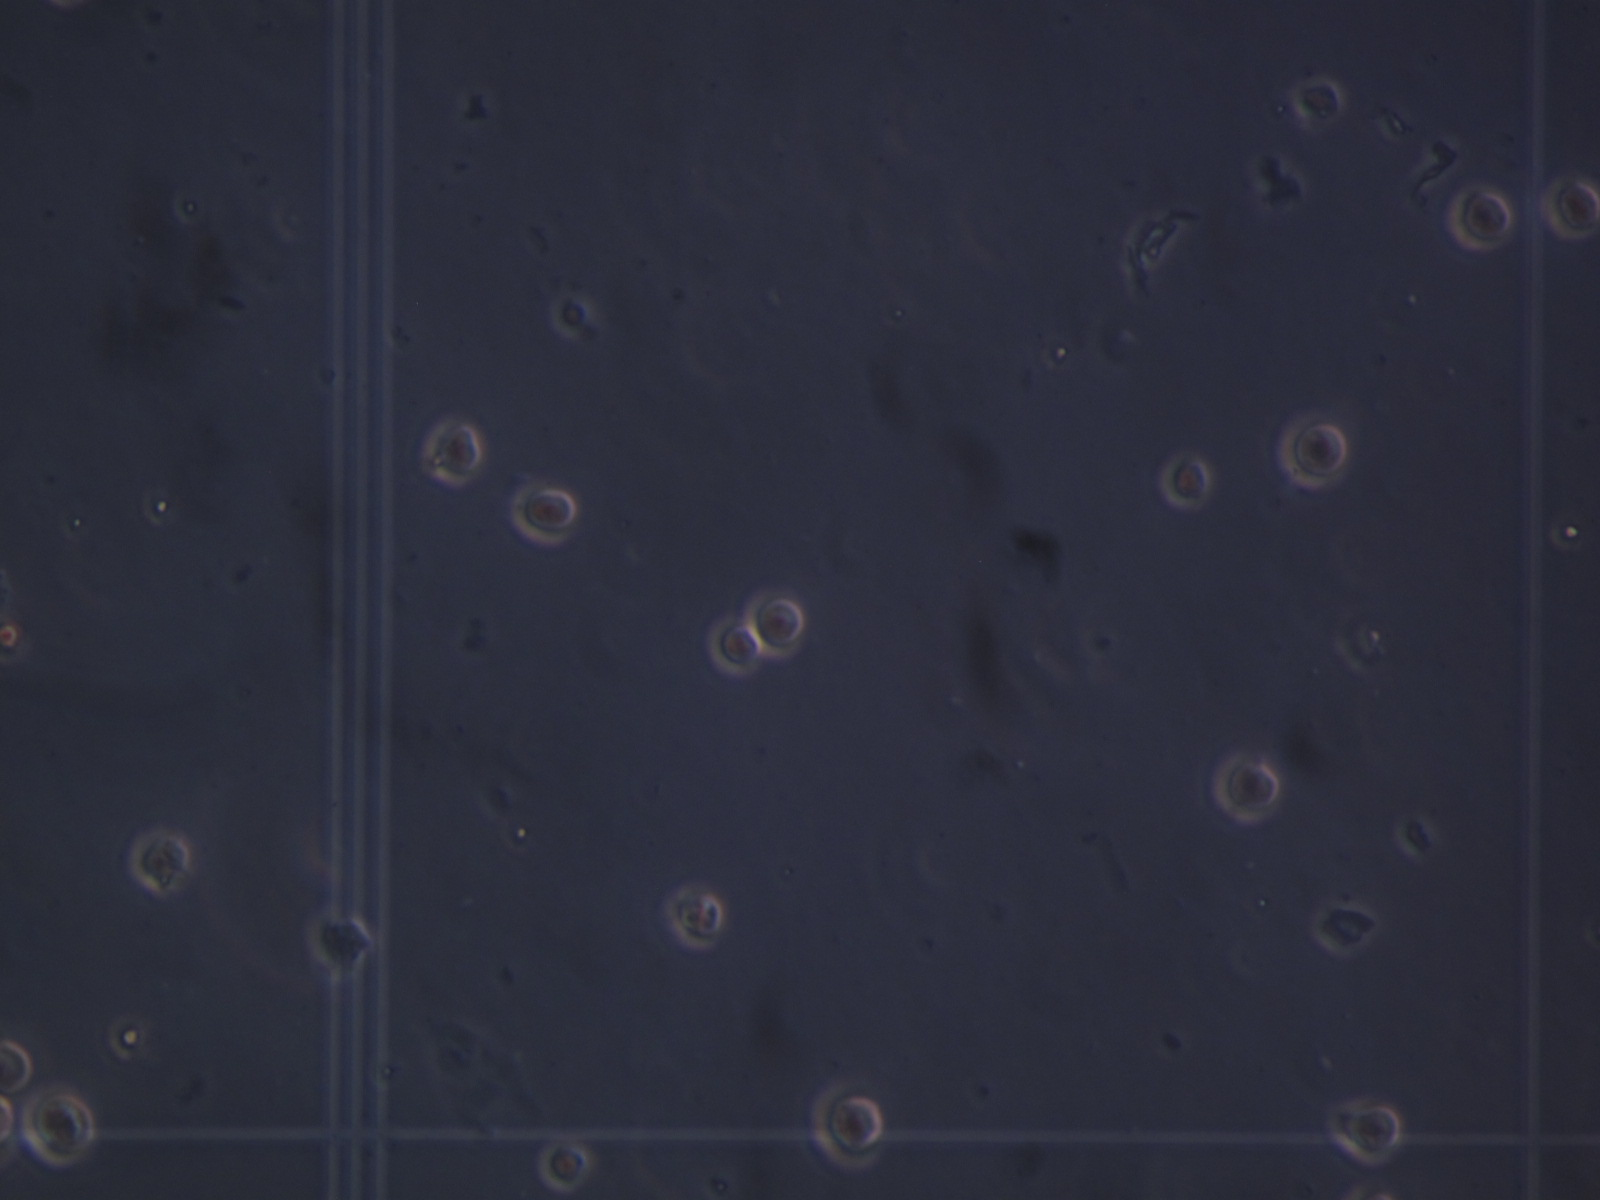hemo: (806, 1076, 886, 1170), (1279, 413, 1349, 495), (1209, 750, 1280, 827), (30, 1082, 94, 1163), (1334, 1097, 1403, 1165), (126, 827, 191, 897), (307, 904, 370, 976), (745, 586, 805, 661), (511, 482, 577, 550), (661, 882, 722, 950), (1450, 189, 1511, 255), (1540, 174, 1600, 237), (427, 421, 484, 484), (1160, 449, 1217, 511), (707, 616, 765, 674), (1288, 72, 1342, 125), (540, 1139, 590, 1186), (1, 1037, 31, 1094), (1, 1092, 16, 1147)
